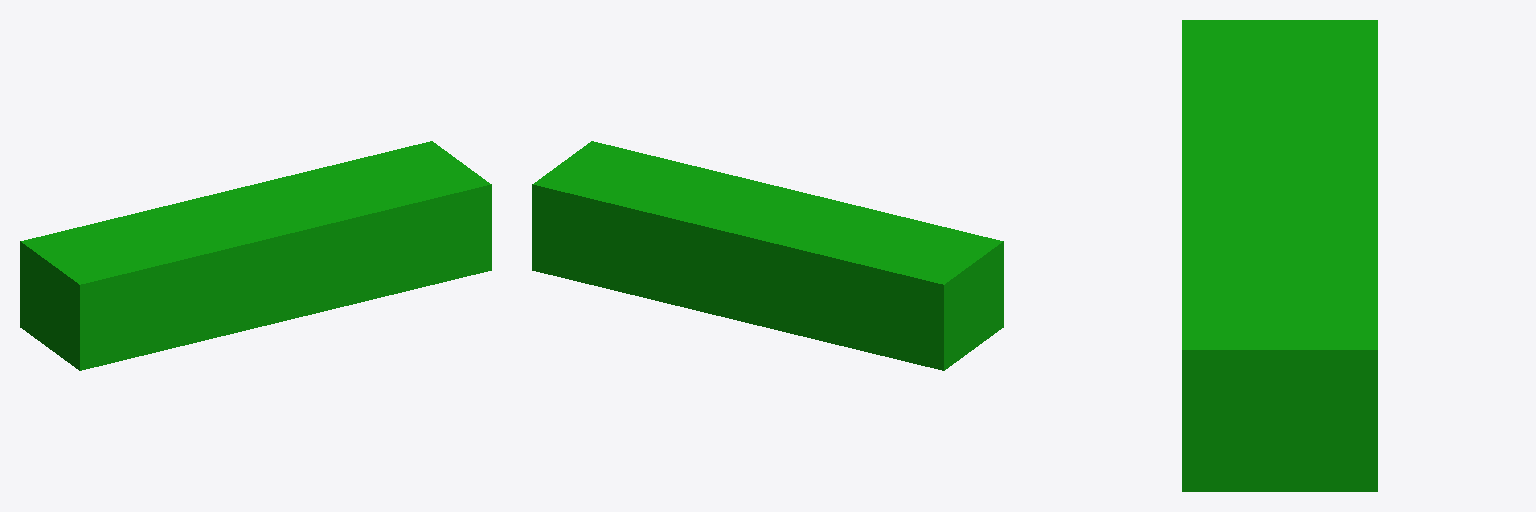
URDF robot description (block_2):
<?xml version="1.0"?>
<robot name="block_2">
  <link name="block_2_base_link">
    <contact>
      <lateral_friction value="1.0"/>
      <spinning_friction value=".001"/>
    </contact>
    <inertial>
      <origin rpy="0 0 0" xyz="0 0 0"/>
      <mass value="0.02"/>
      <inertia ixx="1" ixy="0" ixz="0" iyy="1" iyz="0" izz="1"/>
    </inertial>
    <visual>
      <origin rpy="0 0 0" xyz="0 0 0"/>
      <geometry>
        <box size="0.2 0.05 0.04"/>
      </geometry>
      <material name="blockmat">
        <color rgba="0.1 0.7 0.1 1"/>
      </material>
    </visual>
    <collision>
      <origin rpy="0 0 0" xyz="0 0 0"/>
      <geometry>
        <box size="0.2 0.05 0.04"/>
      </geometry>
    </collision>
  </link>
</robot>

--- Facts derived from the render (not from the file) ---
The picture shows the robot from 3 angles, left to right: view 1: azimuth 30°, elevation 25°; view 2: azimuth 150°, elevation 25°; view 3: azimuth 270°, elevation 25°; orthographic projection.
Robot: block_2 — 1 links, 0 joints (none); root link block_2_base_link; default pose: every joint at zero.
Links seen in each view (by area): view 1: block_2_base_link; view 2: block_2_base_link; view 3: block_2_base_link.
Boxes of the visible links, <box> form: block_2_base_link: <box>20,141,491,370</box>; block_2_base_link: <box>532,141,1003,370</box>; block_2_base_link: <box>1182,20,1377,491</box>.
Size in the robot's own frame: 0.2 by 0.05 by 0.04 metres.
Geometry: primitives only (box / cylinder / sphere), no mesh files.
